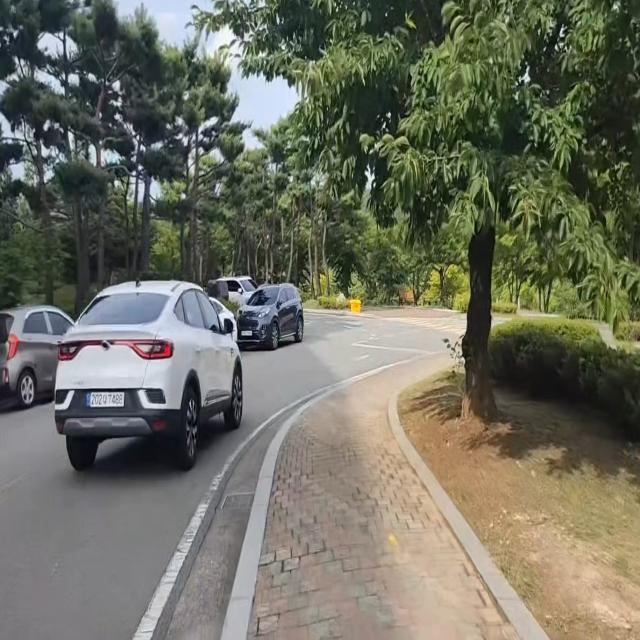obstacle: (51, 274, 248, 485)
